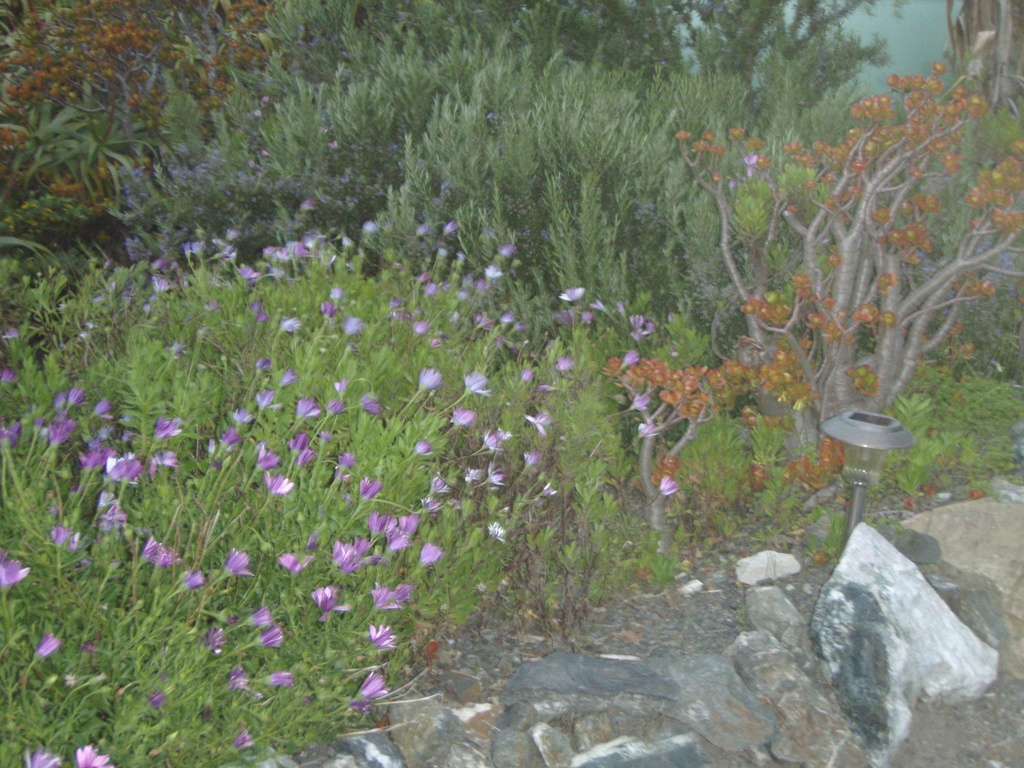Tree: (619, 47, 1007, 501)
